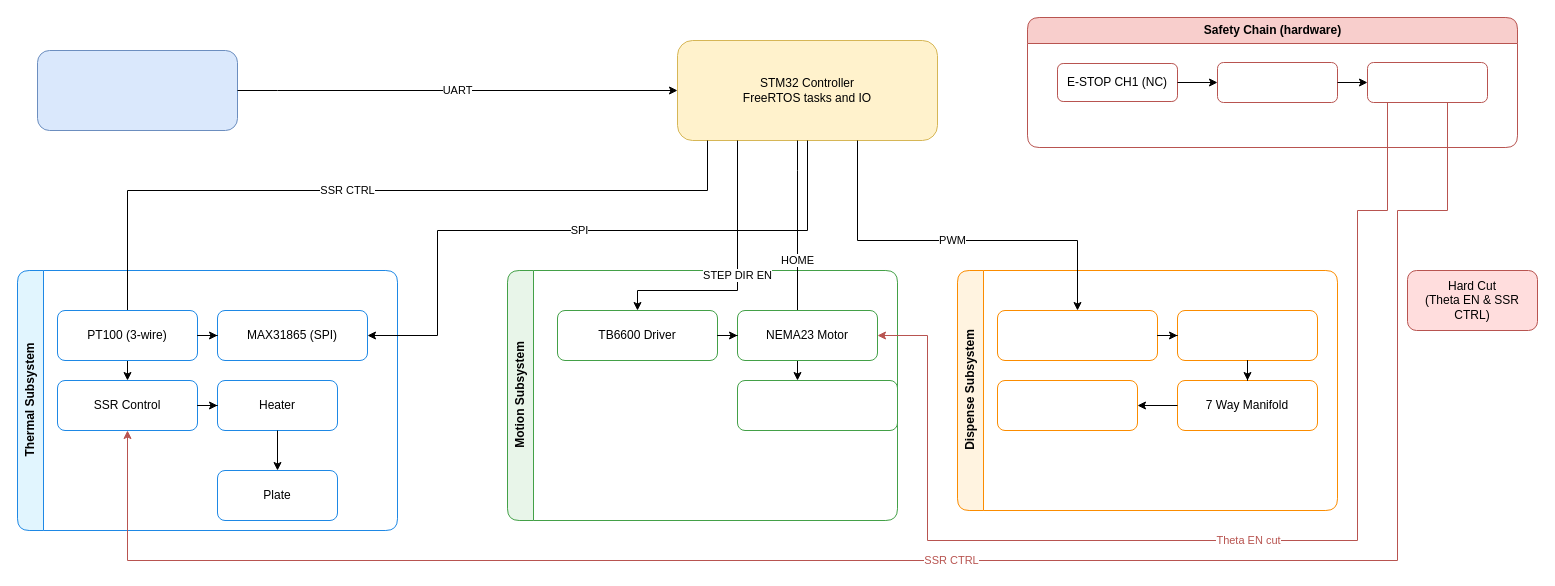
Some shapes in this 1555 by 586 pixel diagram are drawn without their labels. Each missing label, with the centre of its shape:
"Cover Interlock (NC)" belongs at (x=1427, y=82).
"E-STOP CH2 (NC)" belongs at (x=1277, y=82).
"HMI Panel (setpoints, recipes, alarms)" belongs at (x=137, y=90).
"Home / Index Sensor" belongs at (x=817, y=405).
"Nozzles x7" belongs at (x=1067, y=405).
"Pump Drive (PWM)" belongs at (x=1077, y=335).
"Single Pump" belongs at (x=1247, y=335).
